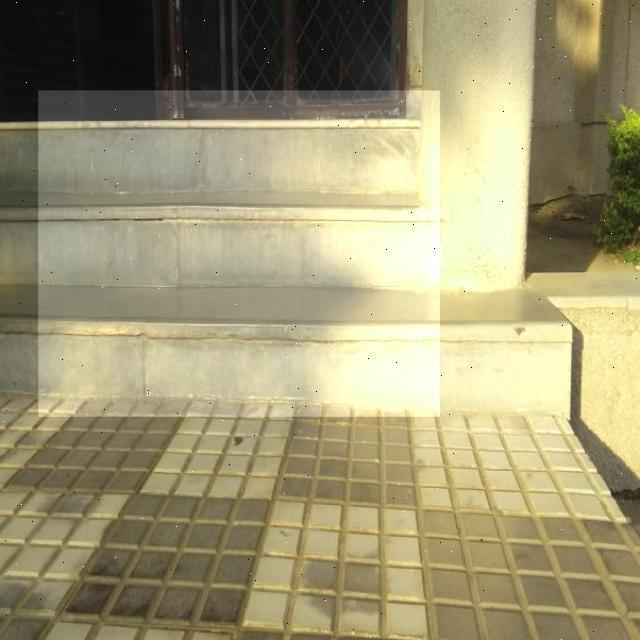stair: (38, 90, 440, 417)
